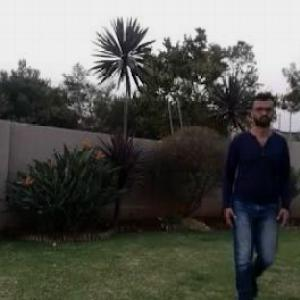follow: (224, 102, 282, 299)
